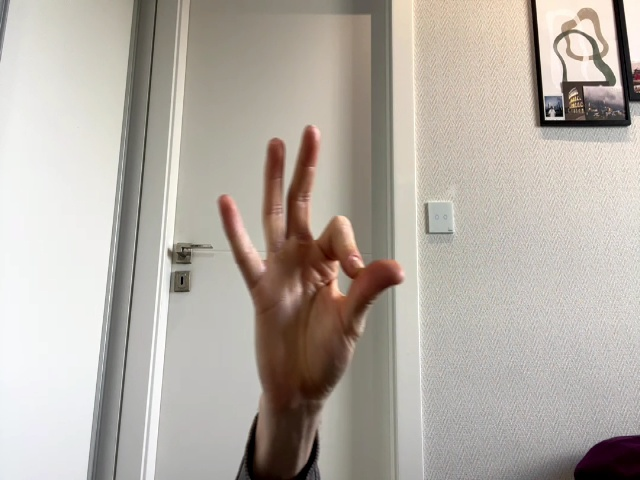S: (217, 124, 406, 391)
